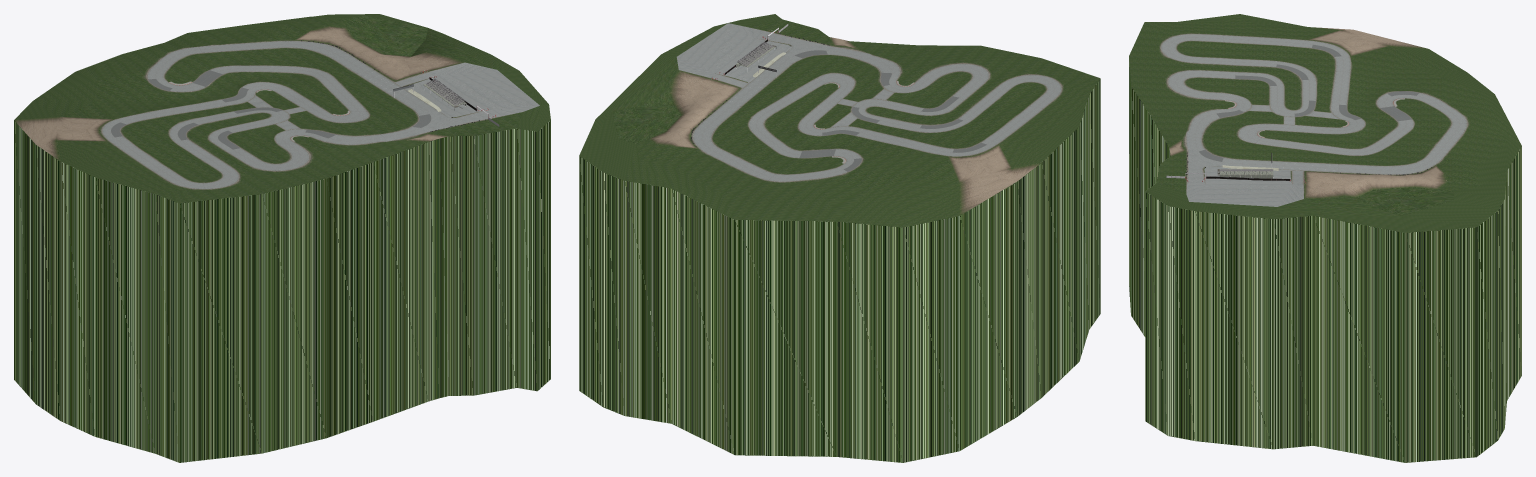
File: tougeteam.glb
The picture shows the model from 3 angles, left to right: view 1: azimuth 30°, elevation 25°; view 2: azimuth 150°, elevation 25°; view 3: azimuth 270°, elevation 25°; orthographic projection. The views are drawn at different scales.
Parts seen in each view (by area): view 1: tougeteam; view 2: tougeteam; view 3: tougeteam.
Boxes of the visible parts, x1,y1,x2,y2 form: tougeteam: (14, 14, 550, 462); tougeteam: (579, 14, 1100, 462); tougeteam: (1129, 14, 1521, 462).
Size of the model in its own units: 375 by 248 by 325.
25 materials, 23 textured.
